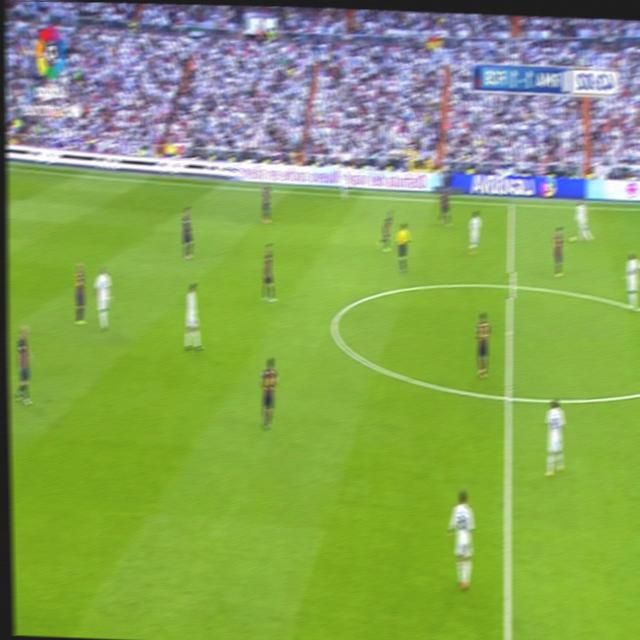halfcircle_bottom: (500, 382, 515, 410)
halfcircle_top: (502, 271, 517, 297)
midline_top_intersection: (506, 196, 516, 210)
